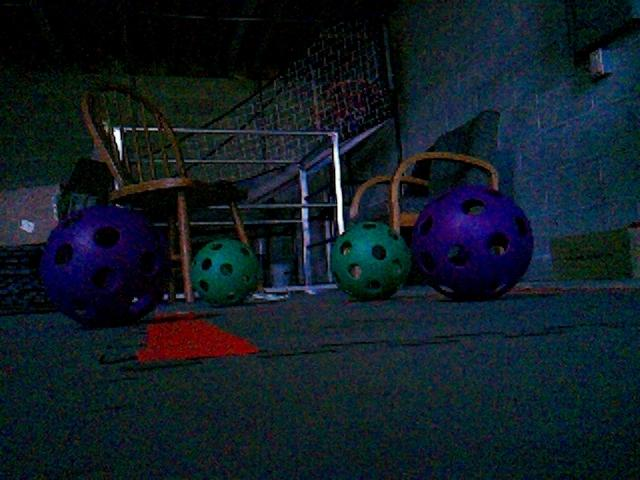Green: (328, 220, 413, 301), (188, 237, 261, 306)
Purple: (42, 206, 168, 326), (412, 184, 533, 299)
